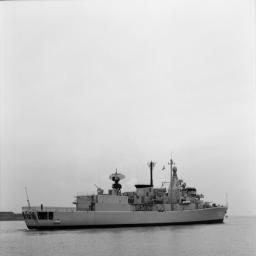Fragata: (23, 150, 231, 231)
